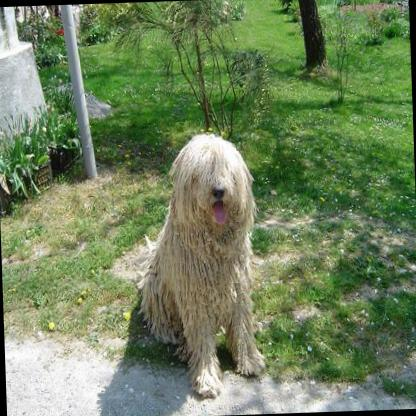komondor: (128, 127, 262, 402)
